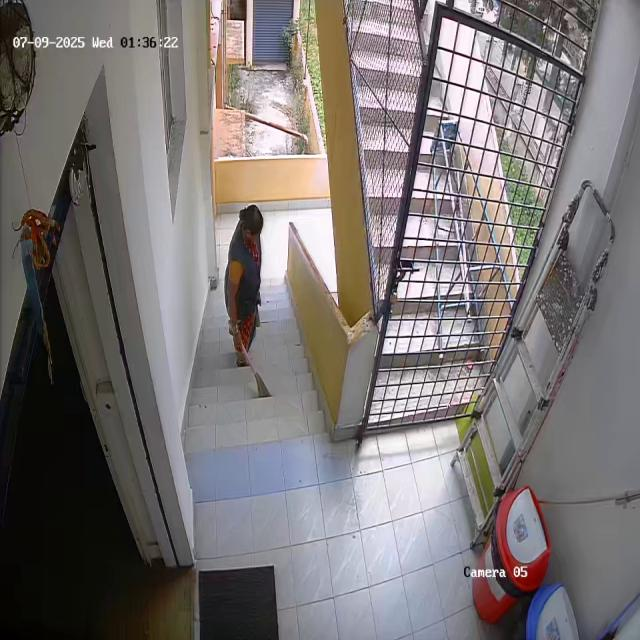person: (218, 206, 274, 366)
